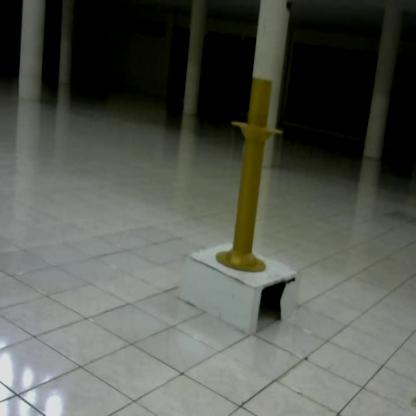pole: (215, 74, 287, 281)
